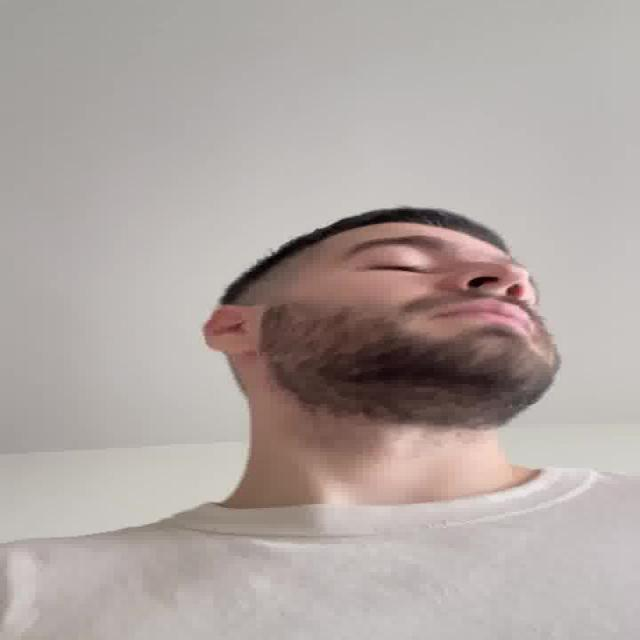earlobe: (201, 302, 257, 356)
